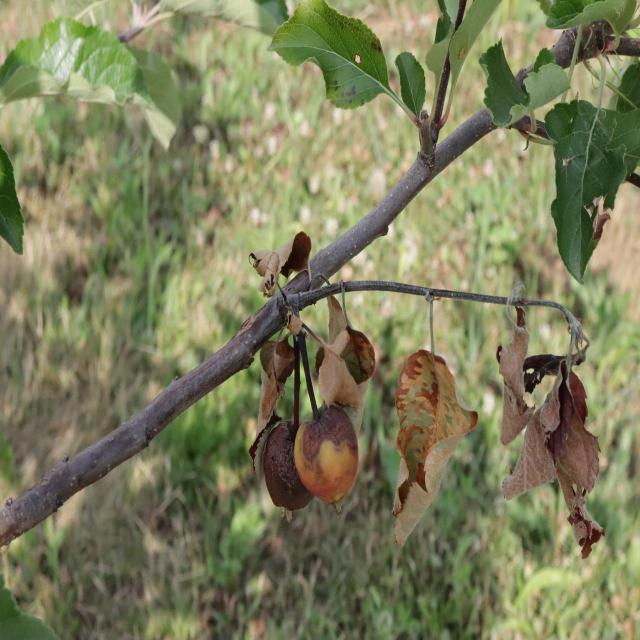-FireBlight-: (392, 245, 606, 552), (246, 250, 378, 413)
